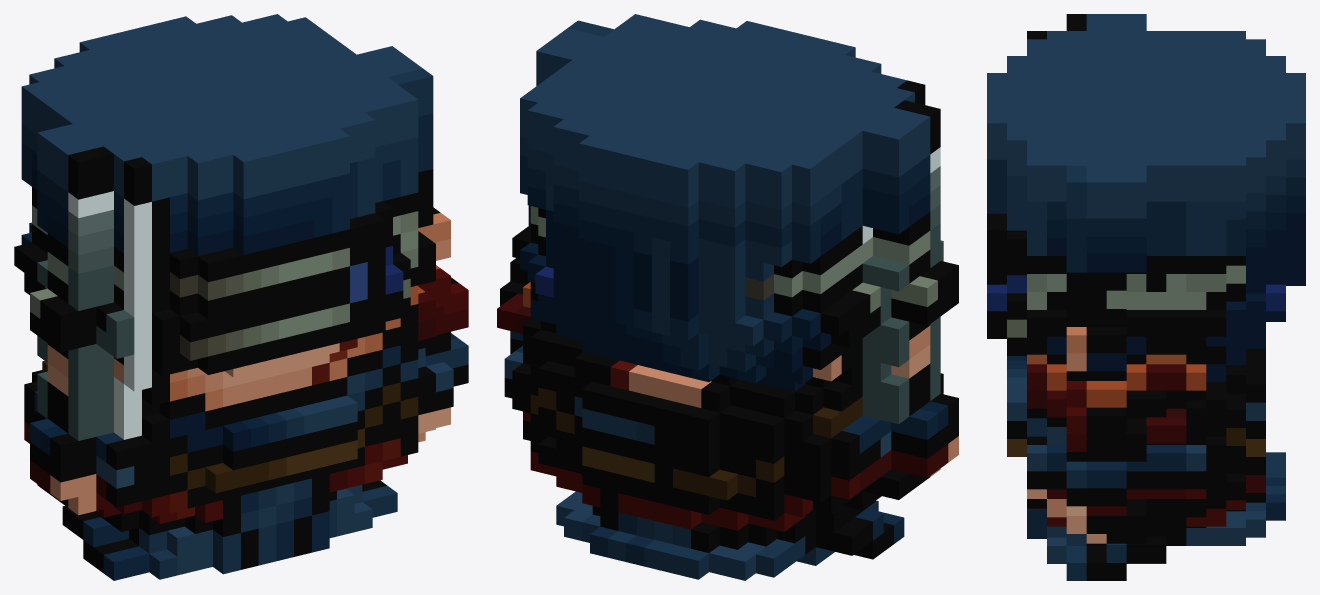
The model's file is Icon_702_02.obj.
3 views of the same model, side by side, from view 1: azimuth 30°, elevation 25°; view 2: azimuth 150°, elevation 25°; view 3: azimuth 270°, elevation 25° (orthographic). The views are drawn at different scales.
Size of the model in its own units: 2.3 by 2.3 by 1.6.
